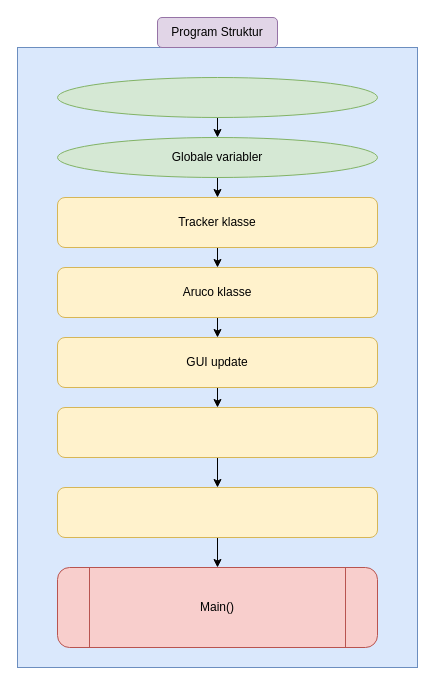
The diagram is 435 pixels wide and 685 high, and some of its shapes have lost their labels. Here are the shapes that lost their labels. From the top down, the centre of each, then its label:
the point at 217,97: Import av bibliotek
the point at 217,432: Send data metode
the point at 217,512: Calibration metode
